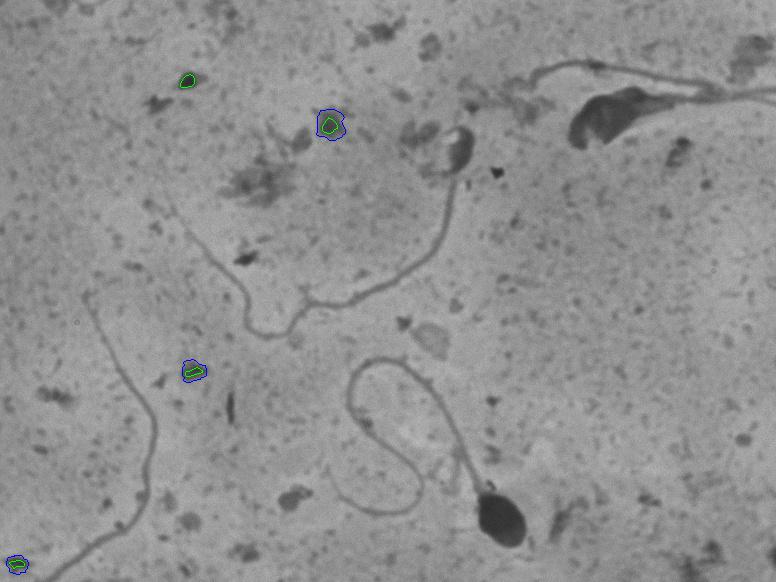Abnormal: (163, 108, 495, 345), (514, 21, 761, 186)
Normal: (299, 327, 595, 558)
